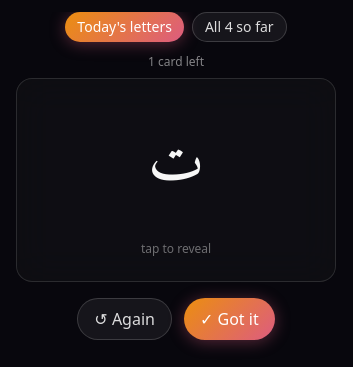
Test case: LetterFlashcards scope toggle › switching back to today's letters survives a stale big-deck index
Expected: the text "1 card left" is shown, [148, 53, 204, 70]
Click the button "All 4 so far". click: [239, 27]
box: [192, 12, 287, 42]
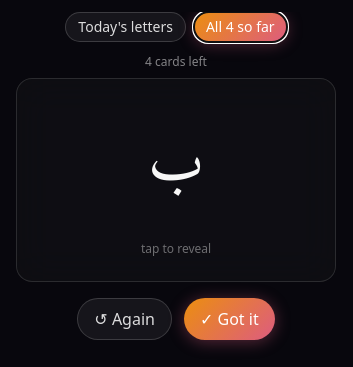
Expected: the text "4 cards left" is shown, [145, 53, 207, 70]
Click the button "Today's letters". click: [126, 27]
box: [65, 12, 186, 42]
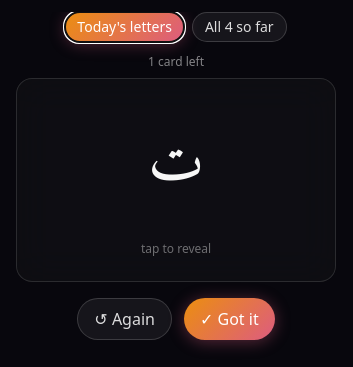
Expected: the text "1 card left" is shown, [148, 53, 204, 70]
Expected: the text "ت" is shown, [148, 103, 204, 229]
